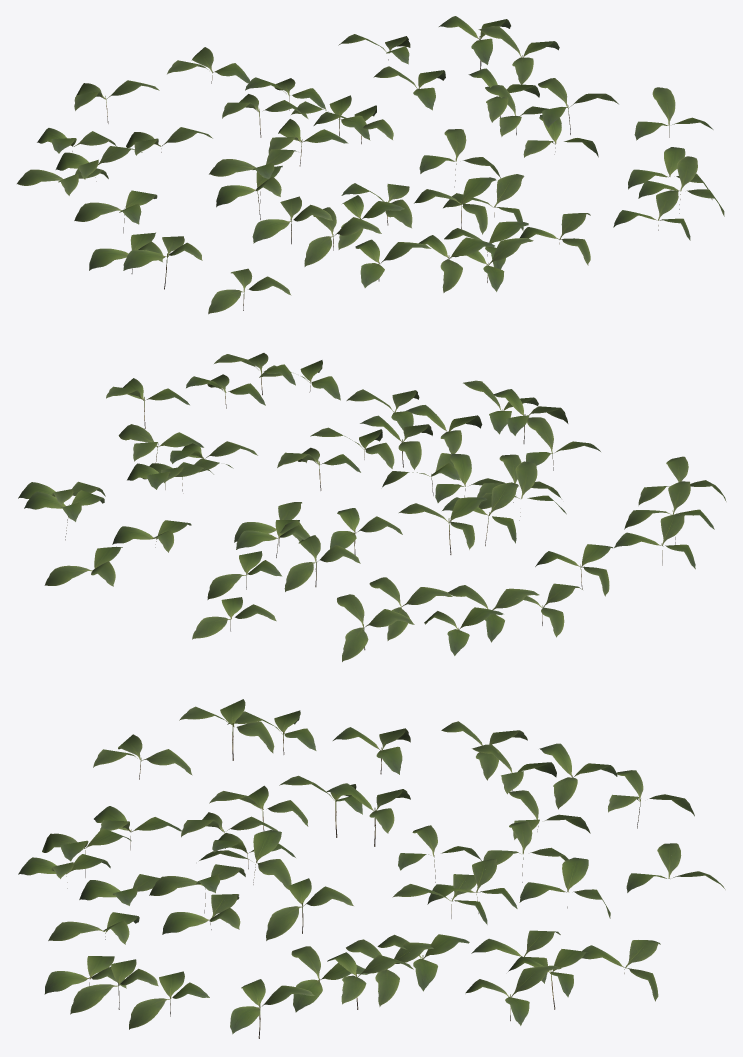
File: Bush9.fbx
3 renders of one model, top to bottom at view 1: azimuth 30°, elevation 25°; view 2: azimuth 150°, elevation 25°; view 3: azimuth 270°, elevation 25°, orthographic. The views are drawn at different scales.
Visible parts, largest first — view 1: LOD0; view 2: LOD0; view 3: LOD0.
Boxes of the visible parts, x1,y1,x2,y2 form: LOD0: (17,16,724,314); LOD0: (18,353,726,661); LOD0: (18,699,725,1038).
Size of what is drawn, in the model's own units: 475 by 46.44 by 440.
